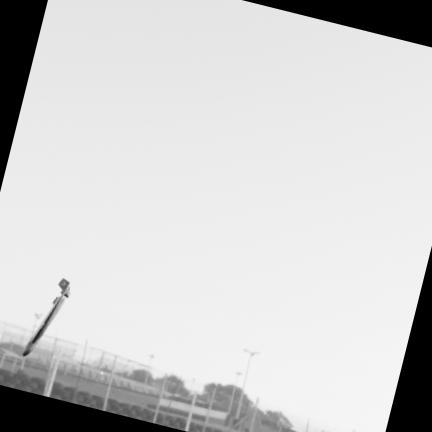Shahed: (22, 278, 69, 355)
